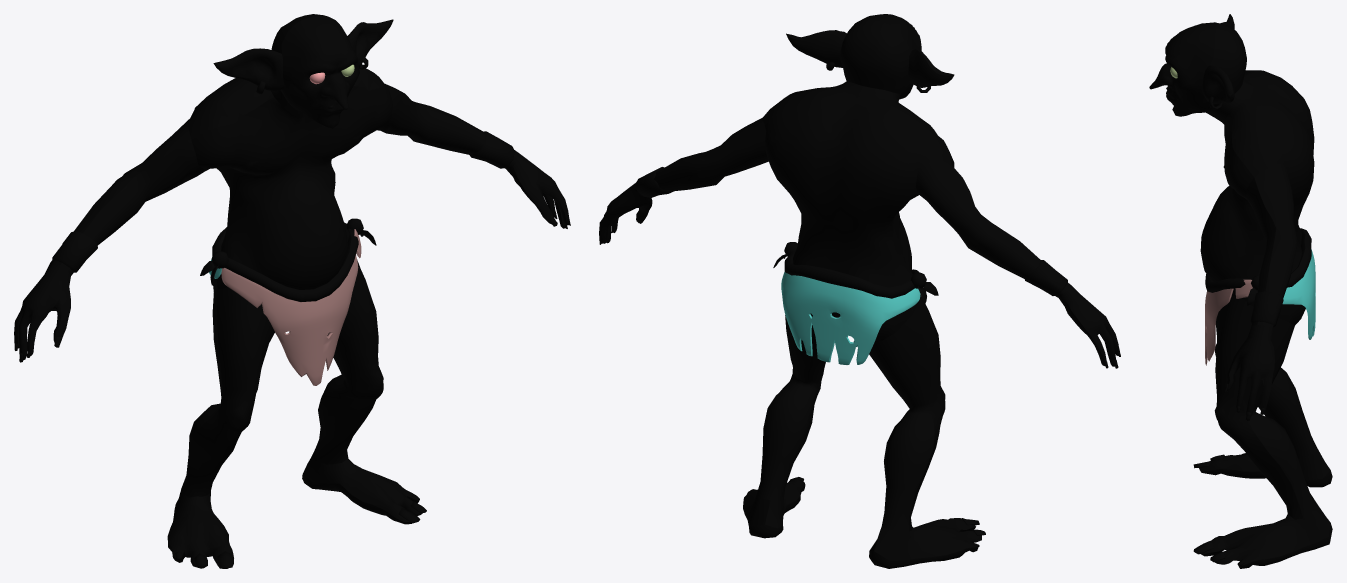
The model's file is Dungeon_Goblin.fbx.
3 renders of one model, left to right at view 1: azimuth 30°, elevation 25°; view 2: azimuth 150°, elevation 25°; view 3: azimuth 270°, elevation 25°, orthographic. The views are drawn at different scales.
Parts seen in each view (by area): view 1: 000-0-0, 004-0-4; view 2: 000-0-0, 003-0-3; view 3: 000-0-0, 004-0-4, 003-0-3.
Boxes of the visible parts, bbox=[...] form: 000-0-0: bbox=[14, 14, 570, 568]; 004-0-4: bbox=[221, 229, 361, 385]; 000-0-0: bbox=[599, 14, 1120, 568]; 003-0-3: bbox=[781, 272, 920, 364]; 000-0-0: bbox=[1149, 14, 1332, 568]; 004-0-4: bbox=[1205, 279, 1252, 365]; 003-0-3: bbox=[1282, 249, 1315, 339].
Size of the model in its own units: 19967 by 18431 by 6238.
5 materials, 1 textured.
